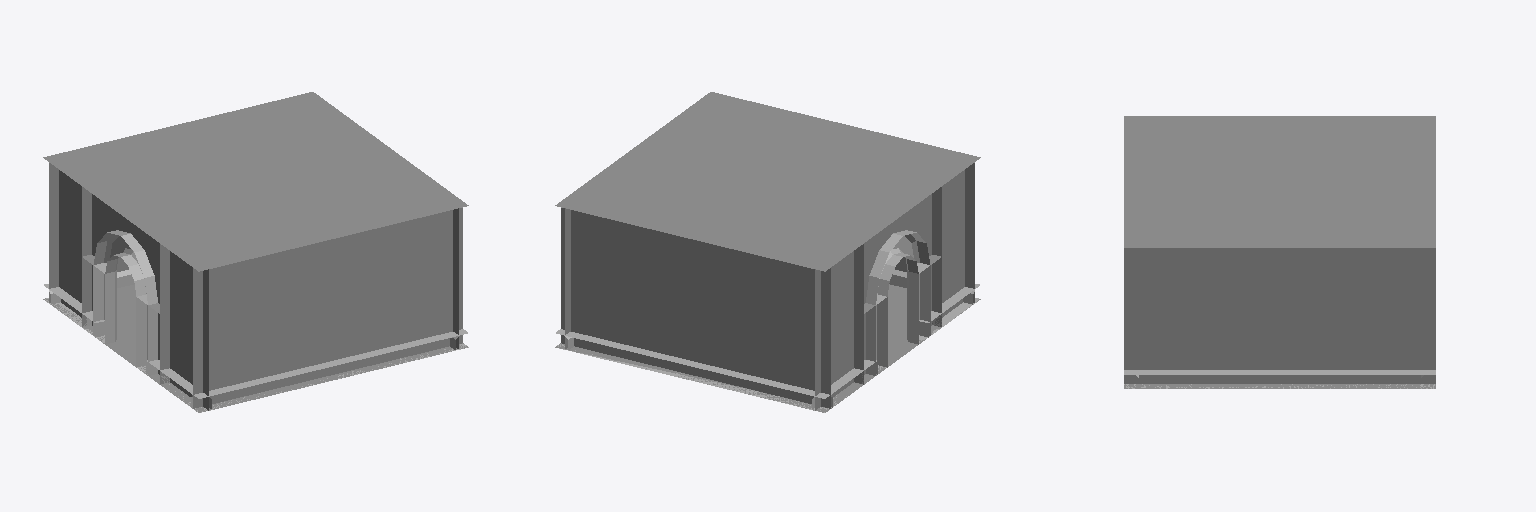
Rendered from startRoom.obj.
The picture shows the model from 3 angles: view 1: azimuth 30°, elevation 25°; view 2: azimuth 150°, elevation 25°; view 3: azimuth 270°, elevation 25°; orthographic projection.
Visible parts, largest first — view 1: struct_ceiling_7, struct_wall_main_half_2, struct_wall_big_door_upper_8, struct_wall_big_door_lower_3, struct_wall_main_half_1, struct_floor_main_half_0, struct_wall_main_half_4, struct_wall_base_half_13, struct_wall_main_half_5, struct_wall_main_half_6; view 2: struct_ceiling_7, struct_wall_main_half_5, struct_wall_big_door_upper_8, struct_wall_big_door_lower_3, struct_wall_main_half_4, struct_wall_main_half_1, struct_floor_main_half_0, struct_wall_base_half_12, struct_wall_main_half_2, struct_wall_main_half_6, struct_wall_base_half_10; view 3: struct_wall_main_half_6, struct_ceiling_7, struct_wall_base_half_14, struct_floor_main_half_0, struct_wall_big_door_upper_8.
Part boxes in pixels (left/top/right/bottom): struct_ceiling_7: left=43, top=92, right=468, bottom=271; struct_wall_main_half_2: left=193, top=208, right=462, bottom=408; struct_wall_big_door_upper_8: left=82, top=184, right=169, bottom=313; struct_wall_big_door_lower_3: left=82, top=255, right=169, bottom=384; struct_wall_main_half_1: left=170, top=251, right=208, bottom=410; struct_floor_main_half_0: left=43, top=284, right=467, bottom=412; struct_wall_main_half_4: left=59, top=170, right=81, bottom=317; struct_wall_base_half_13: left=191, top=330, right=468, bottom=412; struct_wall_main_half_5: left=49, top=163, right=128, bottom=302; struct_wall_main_half_6: left=453, top=208, right=458, bottom=348; struct_ceiling_7: left=555, top=92, right=980, bottom=271; struct_wall_main_half_5: left=561, top=208, right=830, bottom=408; struct_wall_big_door_upper_8: left=854, top=184, right=941, bottom=313; struct_wall_big_door_lower_3: left=854, top=255, right=941, bottom=384; struct_wall_main_half_4: left=815, top=251, right=853, bottom=410; struct_wall_main_half_1: left=942, top=170, right=964, bottom=317; struct_floor_main_half_0: left=555, top=284, right=980, bottom=412; struct_wall_base_half_12: left=556, top=331, right=832, bottom=409; struct_wall_main_half_2: left=895, top=163, right=974, bottom=302; struct_wall_main_half_6: left=565, top=208, right=570, bottom=348; struct_wall_base_half_10: left=942, top=284, right=979, bottom=326; struct_wall_main_half_6: left=1124, top=248, right=1435, bottom=383; struct_ceiling_7: left=1124, top=116, right=1435, bottom=247; struct_wall_base_half_14: left=1126, top=370, right=1434, bottom=388; struct_floor_main_half_0: left=1124, top=384, right=1435, bottom=388; struct_wall_big_door_upper_8: left=1202, top=116, right=1357, bottom=120.
Size of the model in its own units: 4 by 2.1 by 4.